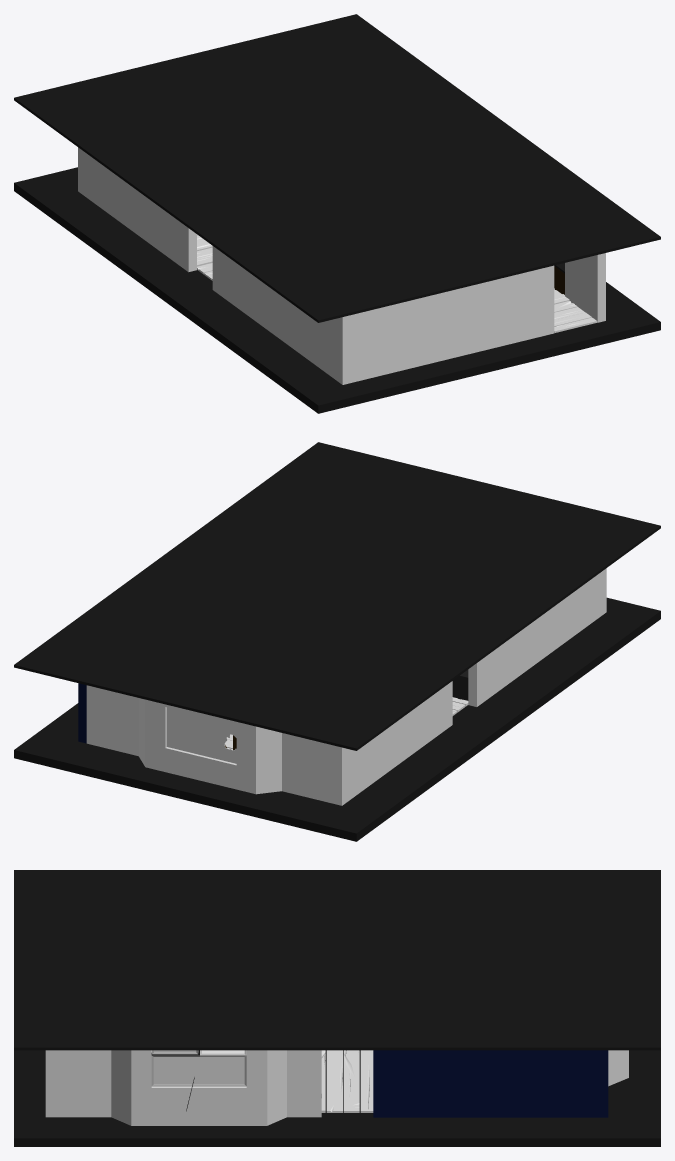
File: Kitchen.fbx
3 renders of one model, top to bottom at view 1: azimuth 30°, elevation 25°; view 2: azimuth 150°, elevation 25°; view 3: azimuth 270°, elevation 25°, orthographic. The views are drawn at different scales.
Parts seen in each view (by area): view 1: Box603, Box331, Box334, Box008, Box335, Plank128; view 2: Box603, Box331, Box013.001, Box334, Box008, Shattered_Glass; view 3: Box603, Box331, Box335, Box012, Plank128, Box334.001, Box013.001, Box483.
Boxes of the visible parts, left/top/right/bottom form: Box603: left=14, top=14, right=660, bottom=322; Box331: left=14, top=167, right=660, bottom=413; Box334: left=212, top=246, right=554, bottom=384; Box008: left=78, top=147, right=196, bottom=272; Box335: left=565, top=253, right=605, bottom=322; Plank128: left=197, top=234, right=597, bottom=332; Box603: left=14, top=442, right=660, bottom=750; Box331: left=14, top=597, right=660, bottom=841; Box013.001: left=86, top=685, right=333, bottom=803; Box334: left=468, top=568, right=606, bottom=706; Box008: left=333, top=681, right=452, bottom=805; Shattered_Glass: left=167, top=707, right=236, bottom=763; Box603: left=14, top=870, right=660, bottom=1050; Box331: left=14, top=1050, right=660, bottom=1146; Box335: left=45, top=1050, right=321, bottom=1125; Box012: left=373, top=1050, right=608, bottom=1117; Plank128: left=151, top=1050, right=373, bottom=1112; Box334.001: left=153, top=1057, right=244, bottom=1083; Box013.001: left=608, top=1050, right=628, bottom=1086; Box483: left=151, top=1055, right=246, bottom=1086.
Size of the model in its own units: 1300 by 339 by 2000.
